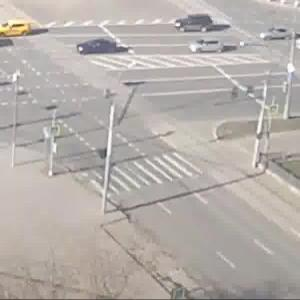car: (173, 7, 224, 35), (74, 36, 120, 56), (183, 40, 237, 57), (2, 19, 36, 39), (256, 29, 300, 44)
